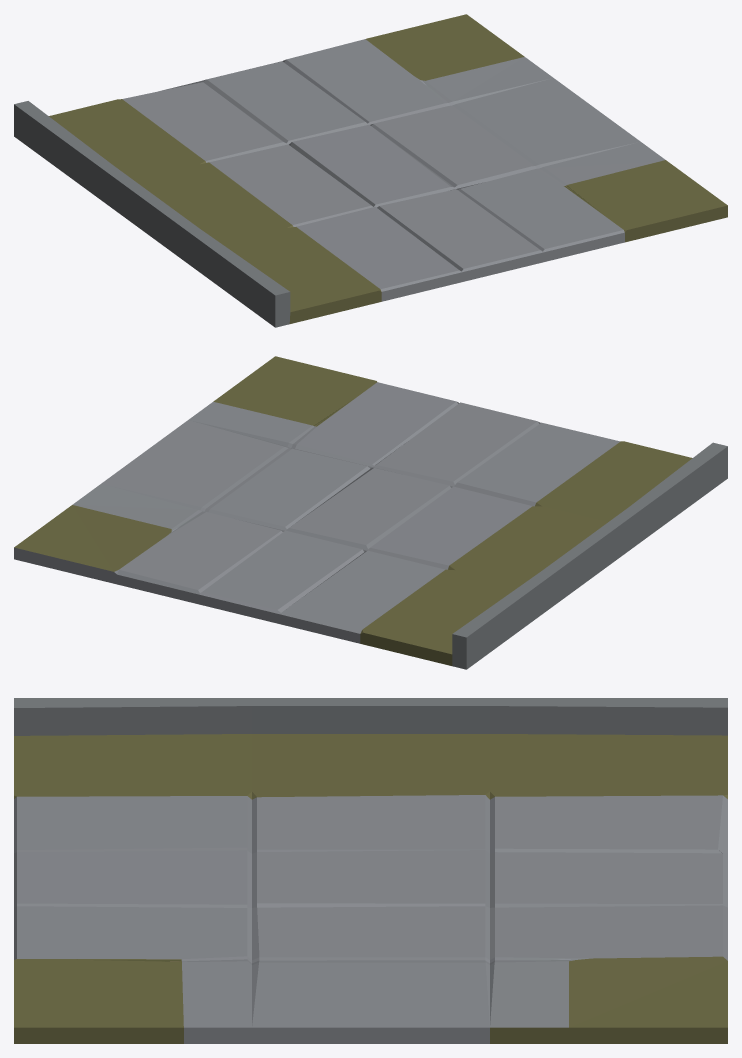
The model's file is Road_024-col.glb.
3 renders of one model, top to bottom at view 1: azimuth 30°, elevation 25°; view 2: azimuth 150°, elevation 25°; view 3: azimuth 270°, elevation 25°, orthographic. The views are drawn at different scales.
Visible parts, largest first — view 1: Sidewalk_06_B-col; view 2: Sidewalk_06_B-col; view 3: Sidewalk_06_B-col.
Part boxes in pixels (x1,y1,x2,y2): Sidewalk_06_B-col: (14,14,727,327); Sidewalk_06_B-col: (14,356,727,669); Sidewalk_06_B-col: (14,698,727,1043).
Size of the model in its own units: 2 by 0.1361 by 2.
Materials: 1 (1 with a texture image).
